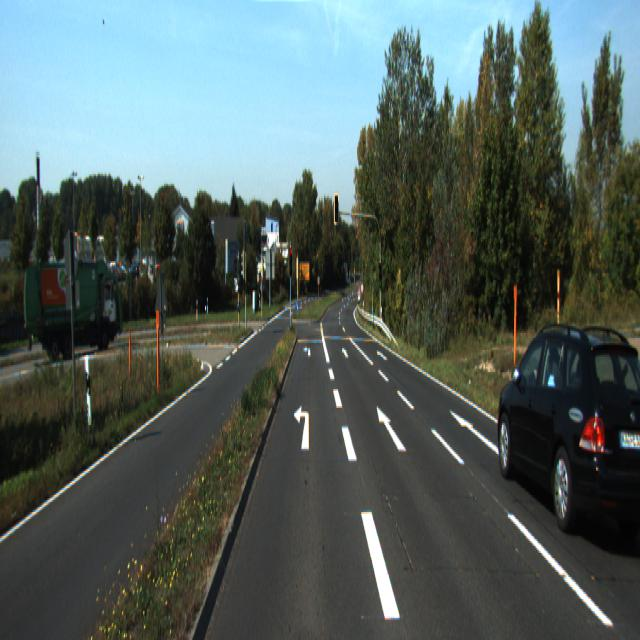Car: (493, 320, 640, 549), (23, 254, 124, 355)
